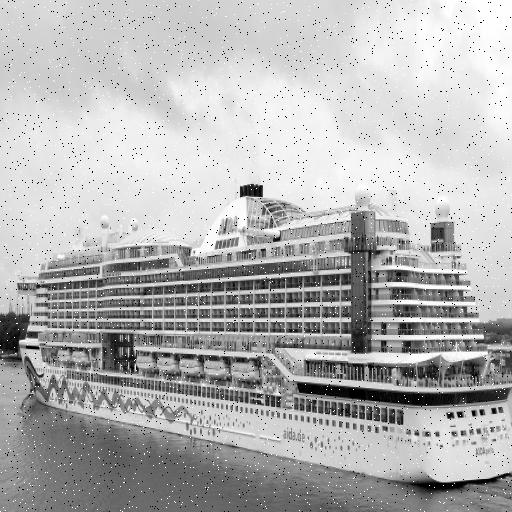cruises: (18, 180, 512, 496)
